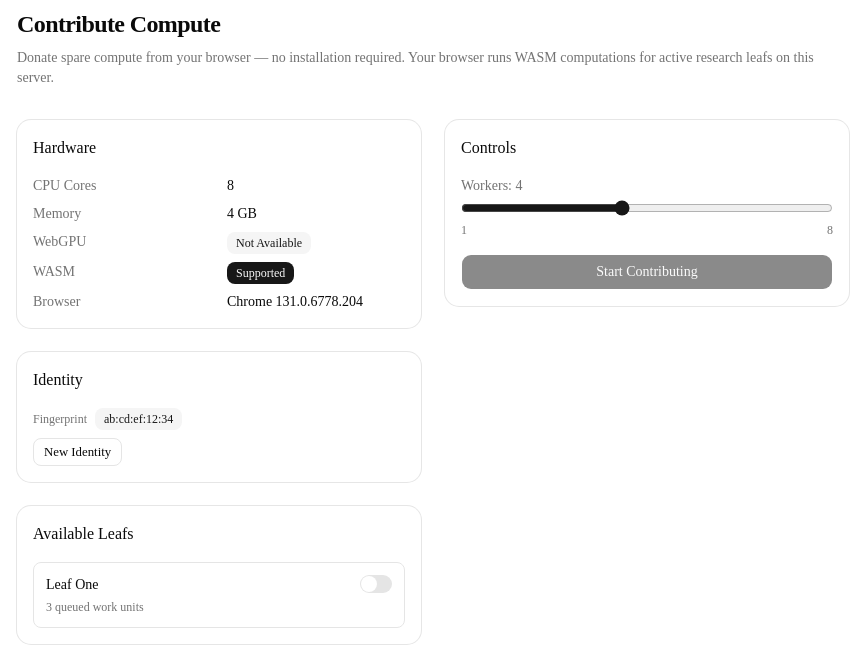
Test: ContributePage proof-of-work wiring › shows the cancel button while solving and cancel returns to idle
Click the switch named "Enable Leaf One". click: x=376, y=584
box: [360,575,392,593]
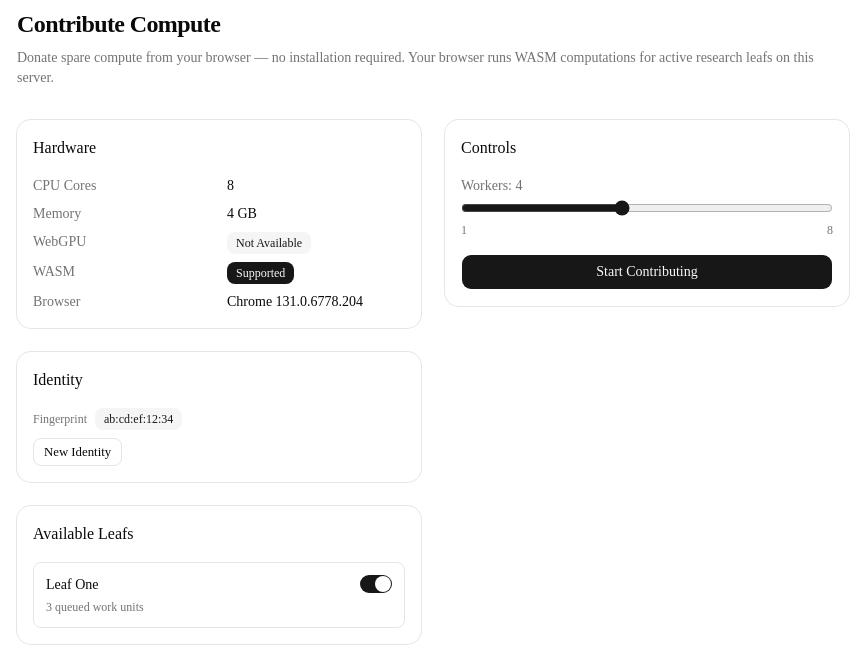
Expected: the button "Start Contributing" is enabled
Click the button "Start Contributing". click: x=647, y=272
box: [461,254,833,290]
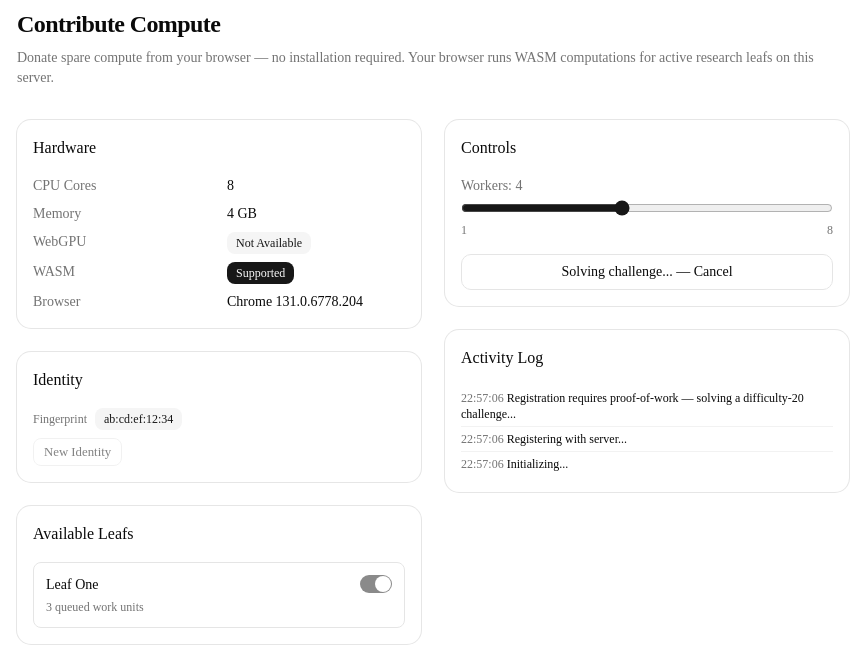
Expected: the text "solving a difficulty-20 challenge" is shown, [461,391,804,421]
Click the button "Solving challenge... — Cancel". click: x=647, y=272
box: [461,254,833,290]
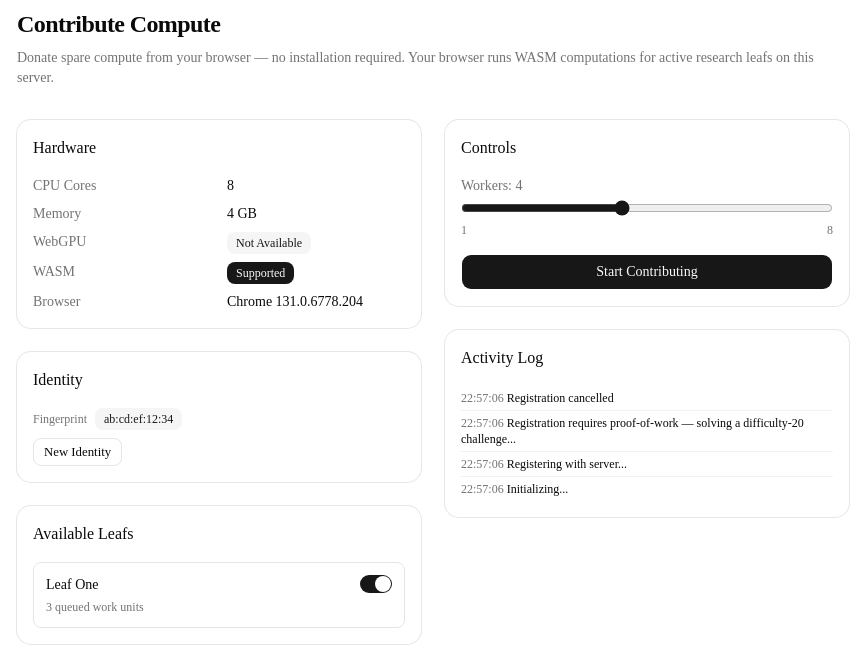
Expected: the text "Registration cancelled" is shown, [507,391,614,405]
Expected: the button "Start Contributing" is shown, [461,254,833,290]
